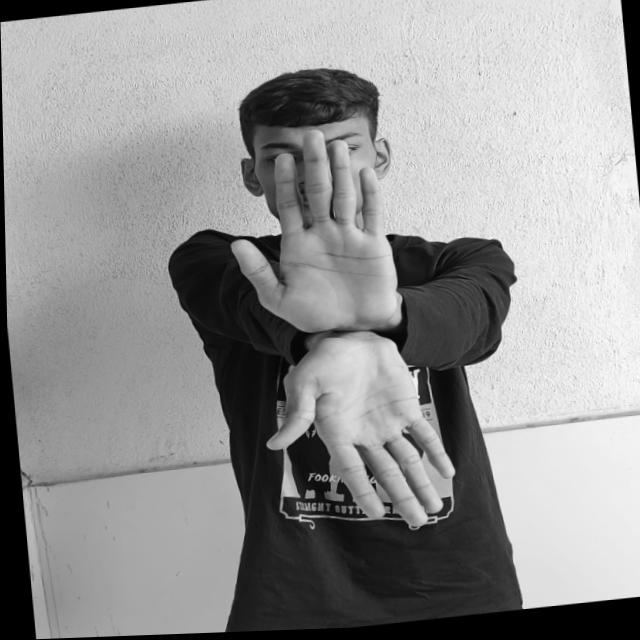Morning: (215, 118, 463, 550)
